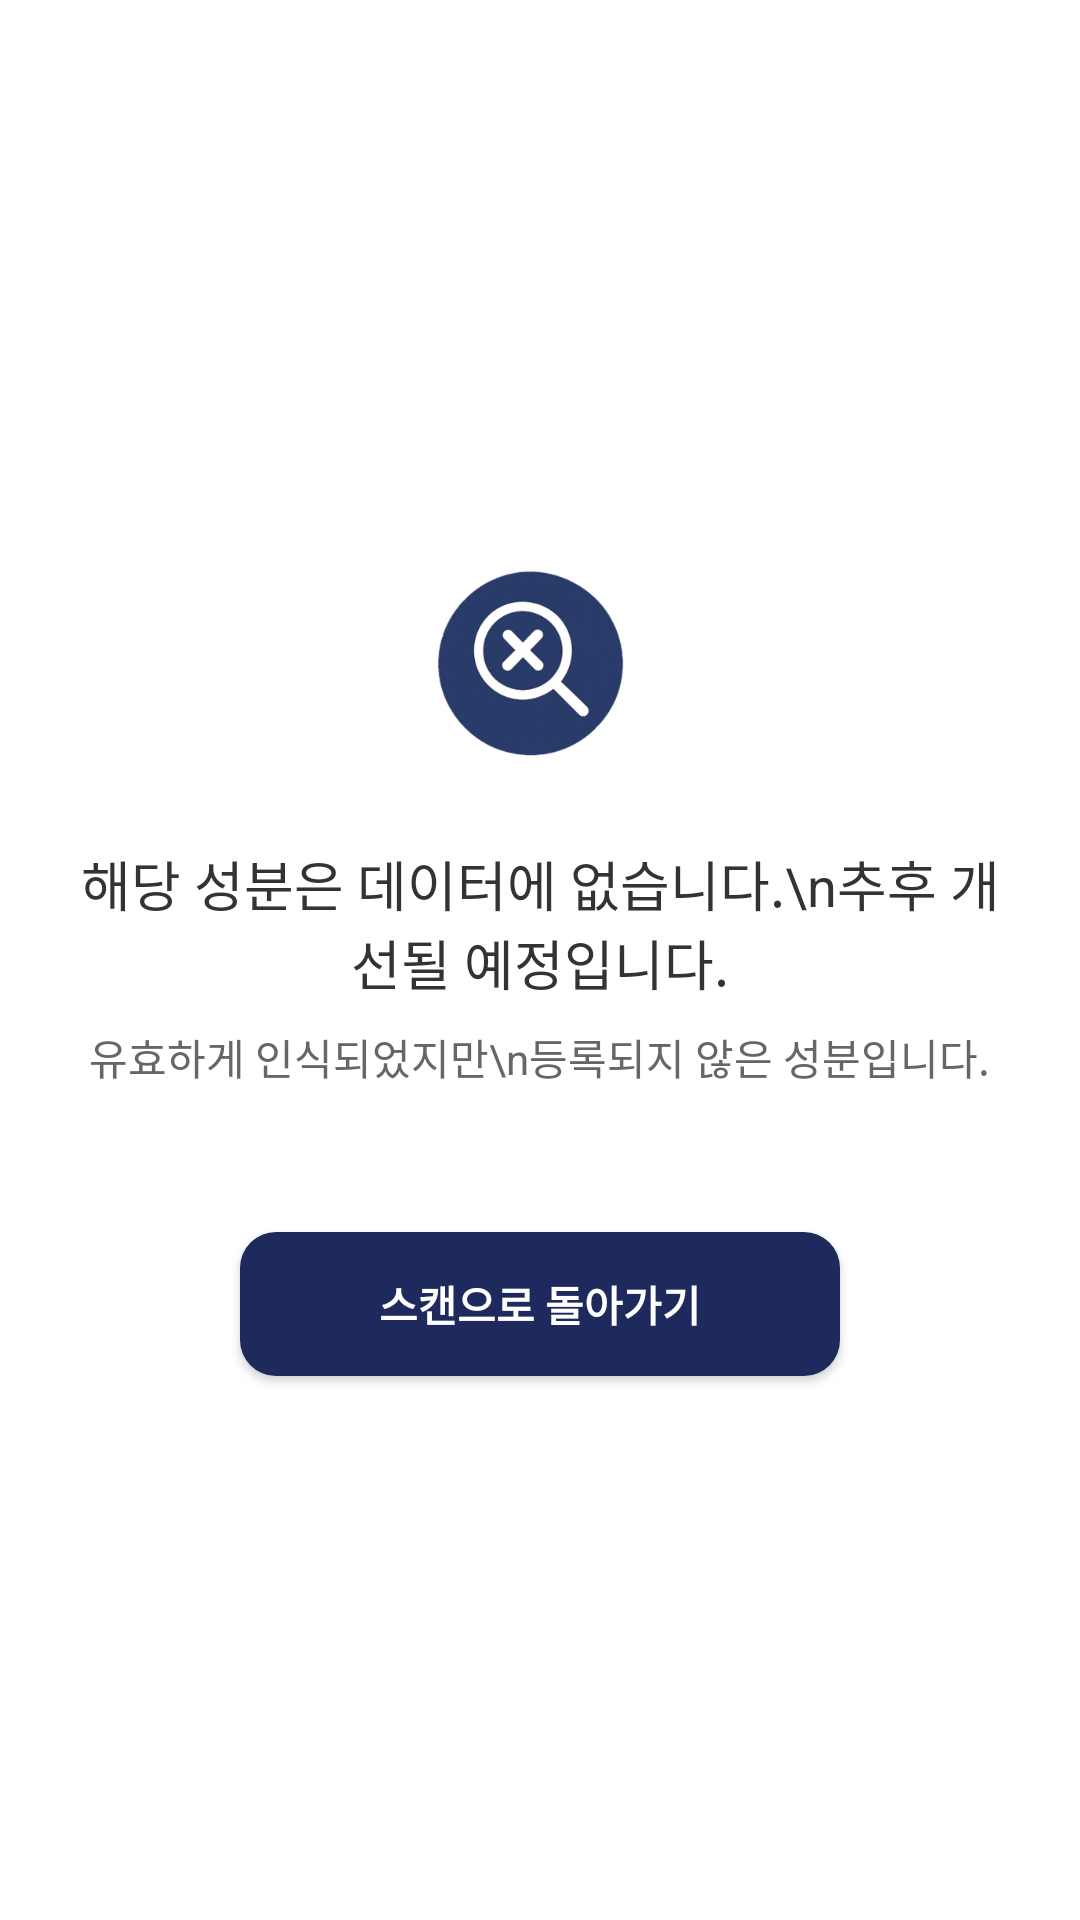

Point at icon controls on the screen. Image size 1080px×1920px, points as (x,y).
pillit notfound: (530,663)
